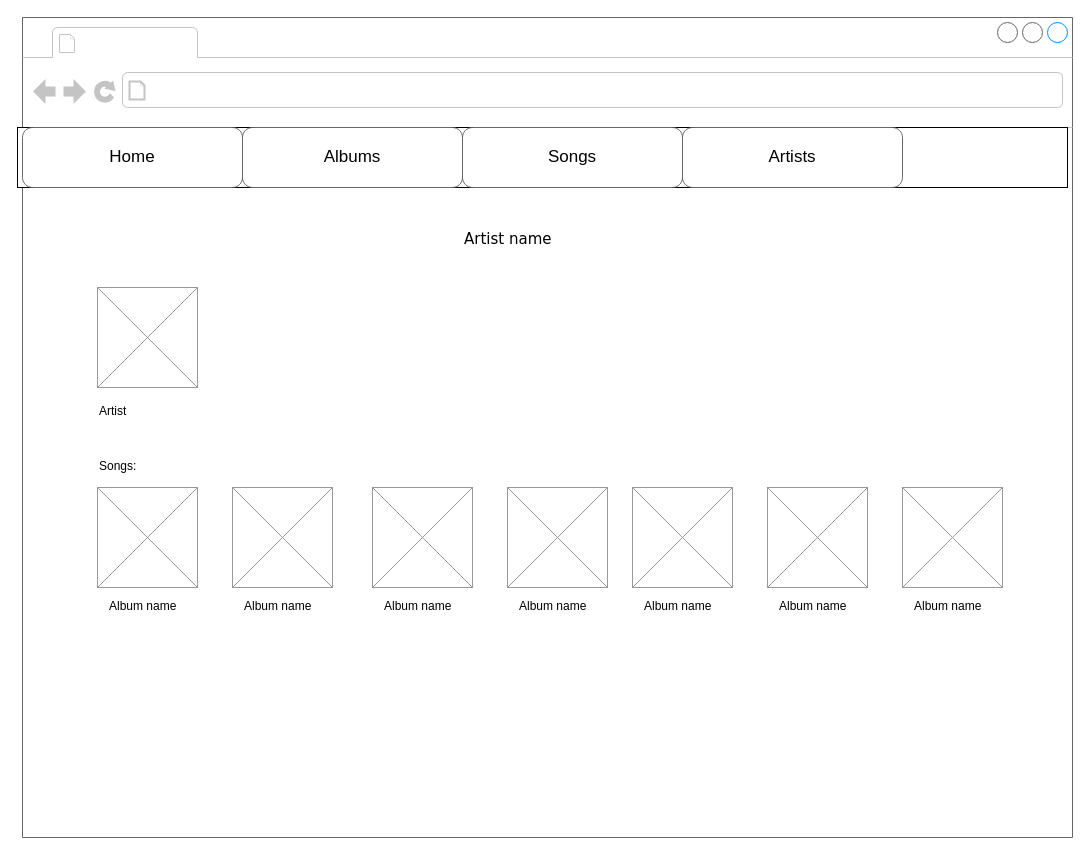
This 1090x855 diagram has some shape labels left out. The centre of each missing label's shape, as x and y in pixels:
"https://www.default.com/artists/artist" belongs at point (277, 90).
"Page 1" belongs at point (137, 42).
